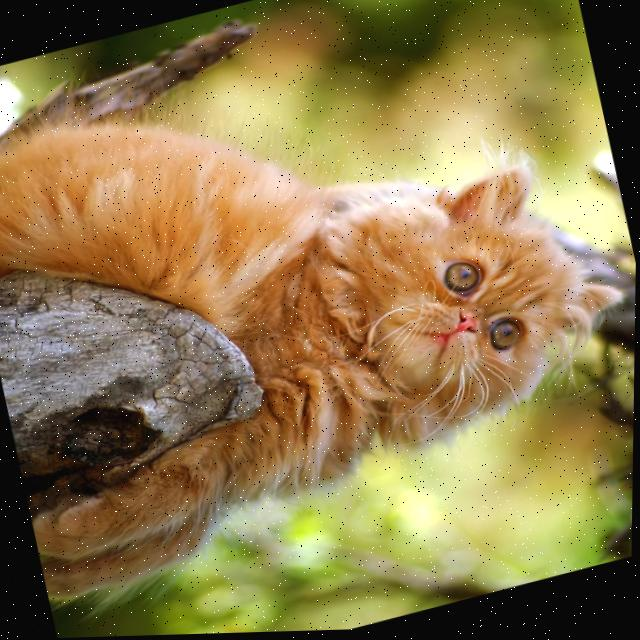Persian: (0, 0, 640, 611)
